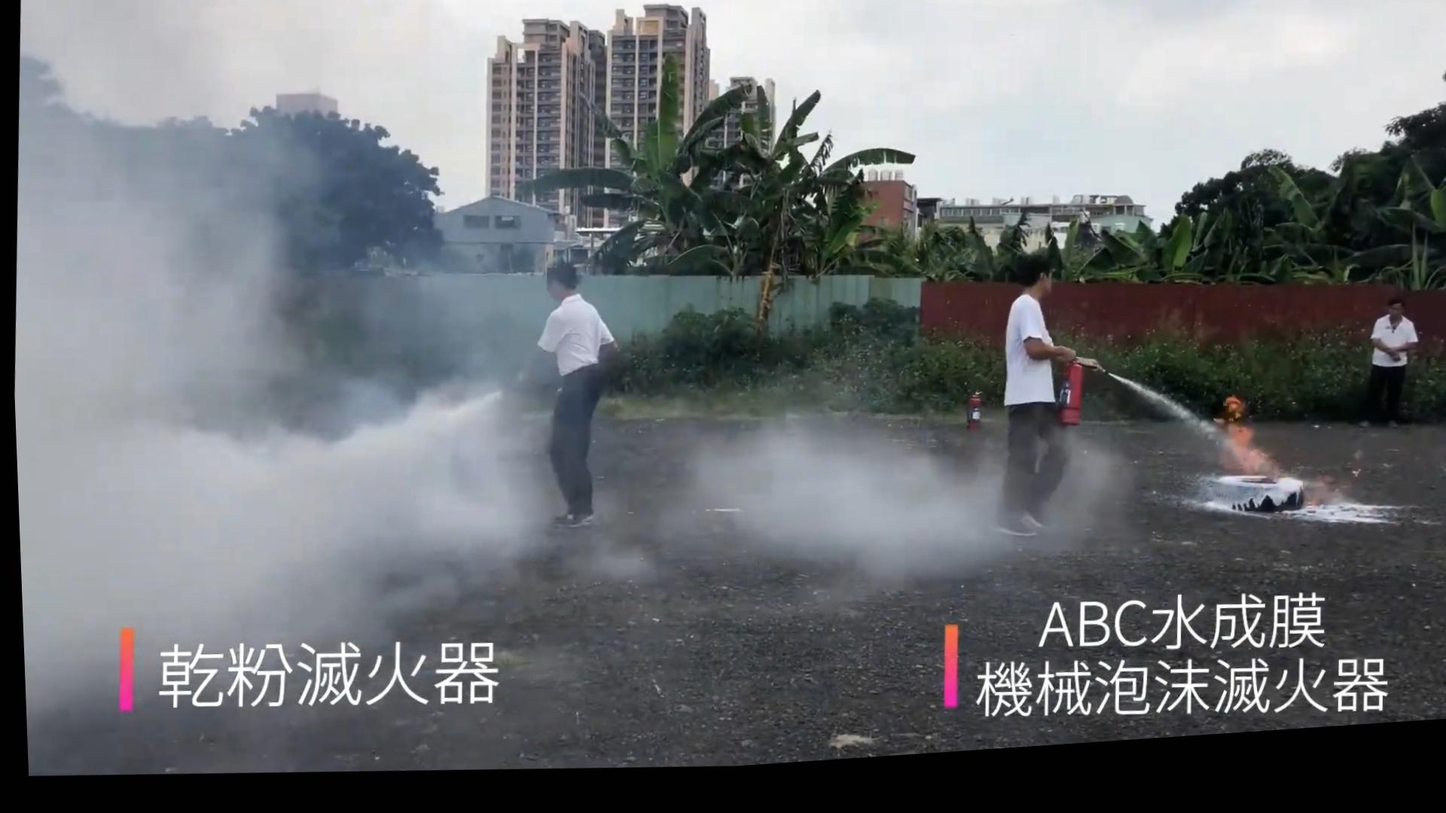FireExtinguisher: (1045, 358, 1093, 453), (953, 394, 982, 469)
not: (1203, 400, 1340, 552), (97, 623, 140, 717), (924, 633, 962, 728)
